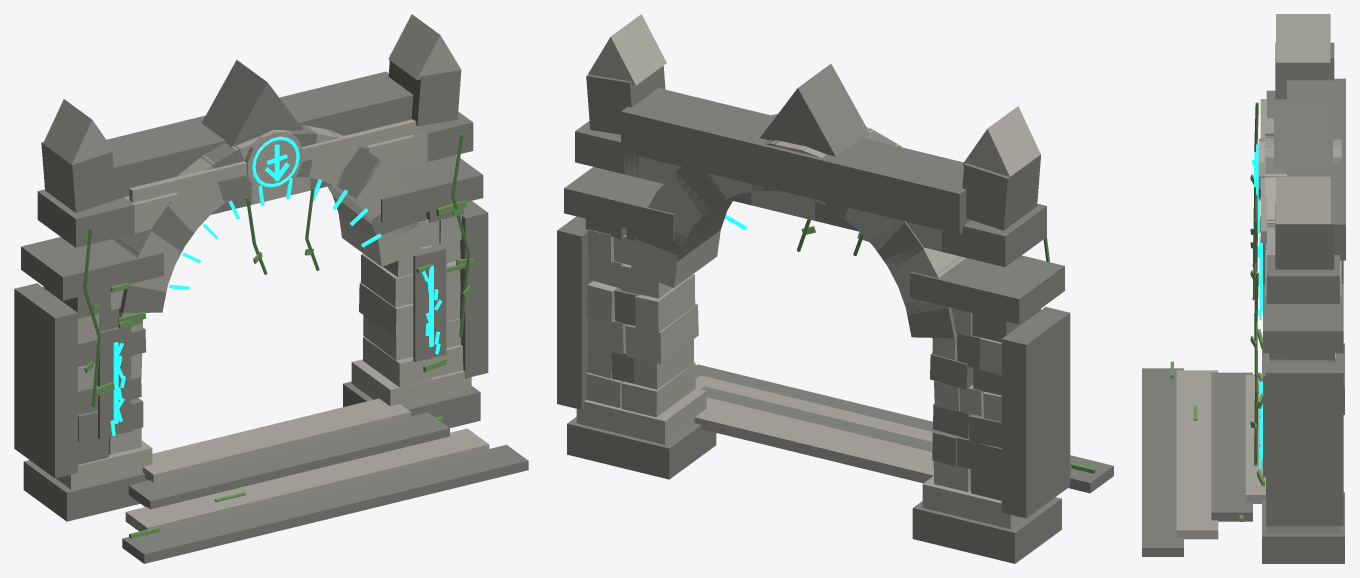
The model's file is low_poly_ruin_arch.glb.
3 views of the same model, side by side, from view 1: azimuth 30°, elevation 25°; view 2: azimuth 150°, elevation 25°; view 3: azimuth 270°, elevation 25° (orthographic). The views are drawn at different scales.
Parts seen in each view (by area): view 1: Left_Outer_Buttress, Front_Step_0, Top_Back_Wall, Front_Step_1, Front_Step_2, Front_Step_3, Left_Top_Cap, Central_Ruined_Crown, Right_Outer_Buttress, Right_Top_Cap, Left_Base_Plinth, Top_Carved_Band (+36 smaller); view 2: Top_Back_Wall, Left_Outer_Buttress, Front_Step_3, Left_Top_Cap, Right_Outer_Buttress, Central_Ruined_Crown, Left_Base_Plinth, Right_Top_Cap, Right_Base_Plinth, Left_Crown_Shard, Front_Step_0, Top_Fragment_Block_0 (+40 smaller); view 3: Right_Outer_Buttress, Front_Step_0, Front_Step_1, Front_Step_2, Right_Top_Cap, Central_Ruined_Crown, Top_Back_Wall, Right_Crown_Shard, Top_Fragment_Block_6, Right_Base_Plinth, Left_Crown_Tip, Right_Crown_Tip (+11 smaller).
Part boxes in pixels (left/top/right/bottom): Left_Outer_Buttress: left=14, top=283, right=77, bottom=478; Front_Step_0: left=122, top=444, right=528, bottom=563; Top_Back_Wall: left=106, top=71, right=413, bottom=198; Front_Step_1: left=125, top=428, right=489, bottom=535; Front_Step_2: left=128, top=412, right=449, bottom=509; Front_Step_3: left=142, top=398, right=410, bottom=482; Left_Top_Cap: left=21, top=237, right=163, bottom=300; Central_Ruined_Crown: left=202, top=60, right=302, bottom=146; Right_Outer_Buttress: left=460, top=201, right=488, bottom=378; Right_Top_Cap: left=381, top=155, right=483, bottom=222; Left_Base_Plinth: left=23, top=460, right=147, bottom=521; Top_Carved_Band: left=129, top=119, right=416, bottom=202; Top_Back_Wall: left=621, top=88, right=970, bottom=234; Left_Outer_Buttress: left=1001, top=306, right=1070, bottom=518; Front_Step_3: left=694, top=397, right=933, bottom=483; Left_Top_Cap: left=910, top=255, right=1064, bottom=324; Right_Outer_Buttress: left=557, top=216, right=592, bottom=409; Central_Ruined_Crown: left=760, top=64, right=869, bottom=156; Left_Base_Plinth: left=912, top=497, right=1061, bottom=563; Right_Top_Cap: left=564, top=167, right=674, bottom=239; Right_Base_Plinth: left=567, top=417, right=716, bottom=479; Left_Crown_Shard: left=962, top=154, right=1041, bottom=230; Front_Step_0: left=695, top=364, right=1113, bottom=493; Top_Fragment_Block_0: left=942, top=203, right=1046, bottom=267; Right_Outer_Buttress: left=1266, top=362, right=1343, bottom=526; Front_Step_0: left=1142, top=368, right=1183, bottom=556; Front_Step_1: left=1176, top=370, right=1218, bottom=539; Front_Step_2: left=1211, top=372, right=1252, bottom=521; Right_Top_Cap: left=1263, top=284, right=1343, bottom=353; Central_Ruined_Crown: left=1274, top=99, right=1332, bottom=169; Top_Back_Wall: left=1287, top=78, right=1345, bottom=260; Right_Crown_Shard: left=1275, top=202, right=1334, bottom=269; Top_Fragment_Block_6: left=1266, top=249, right=1339, bottom=303; Right_Base_Plinth: left=1262, top=492, right=1344, bottom=563; Left_Crown_Tip: left=1276, top=14, right=1330, bottom=62; Right_Crown_Tip: left=1276, top=176, right=1330, bottom=223.
Size of the model in its own units: 6.65 by 5.7 by 2.83.
